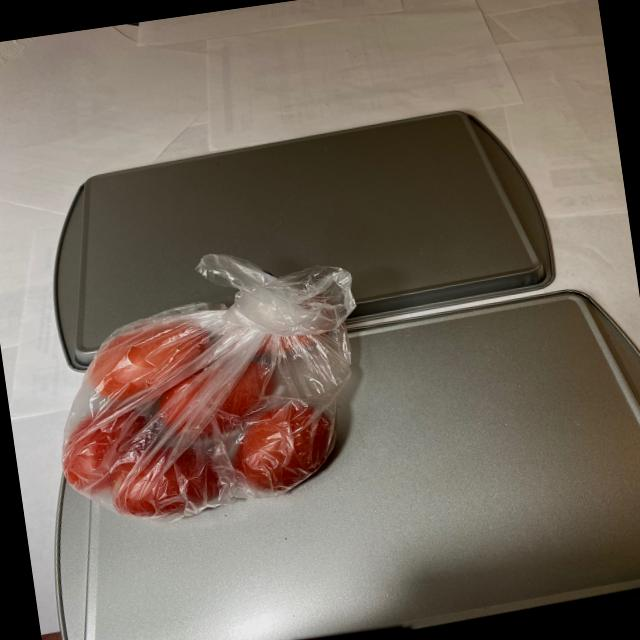tomato: (38, 283, 373, 532)
